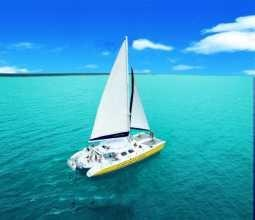fanchuan: (67, 33, 164, 177)
